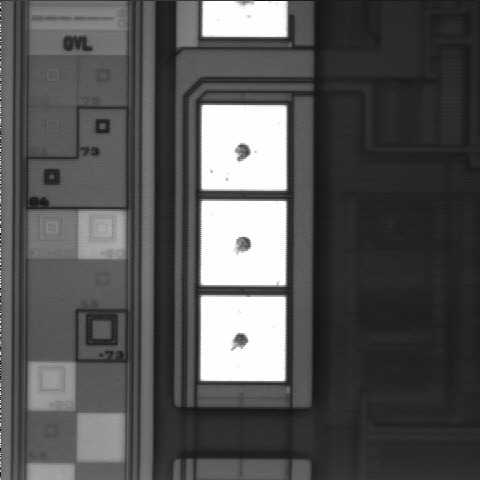pad: (201, 296, 286, 381), (202, 105, 286, 191), (201, 201, 286, 285)
